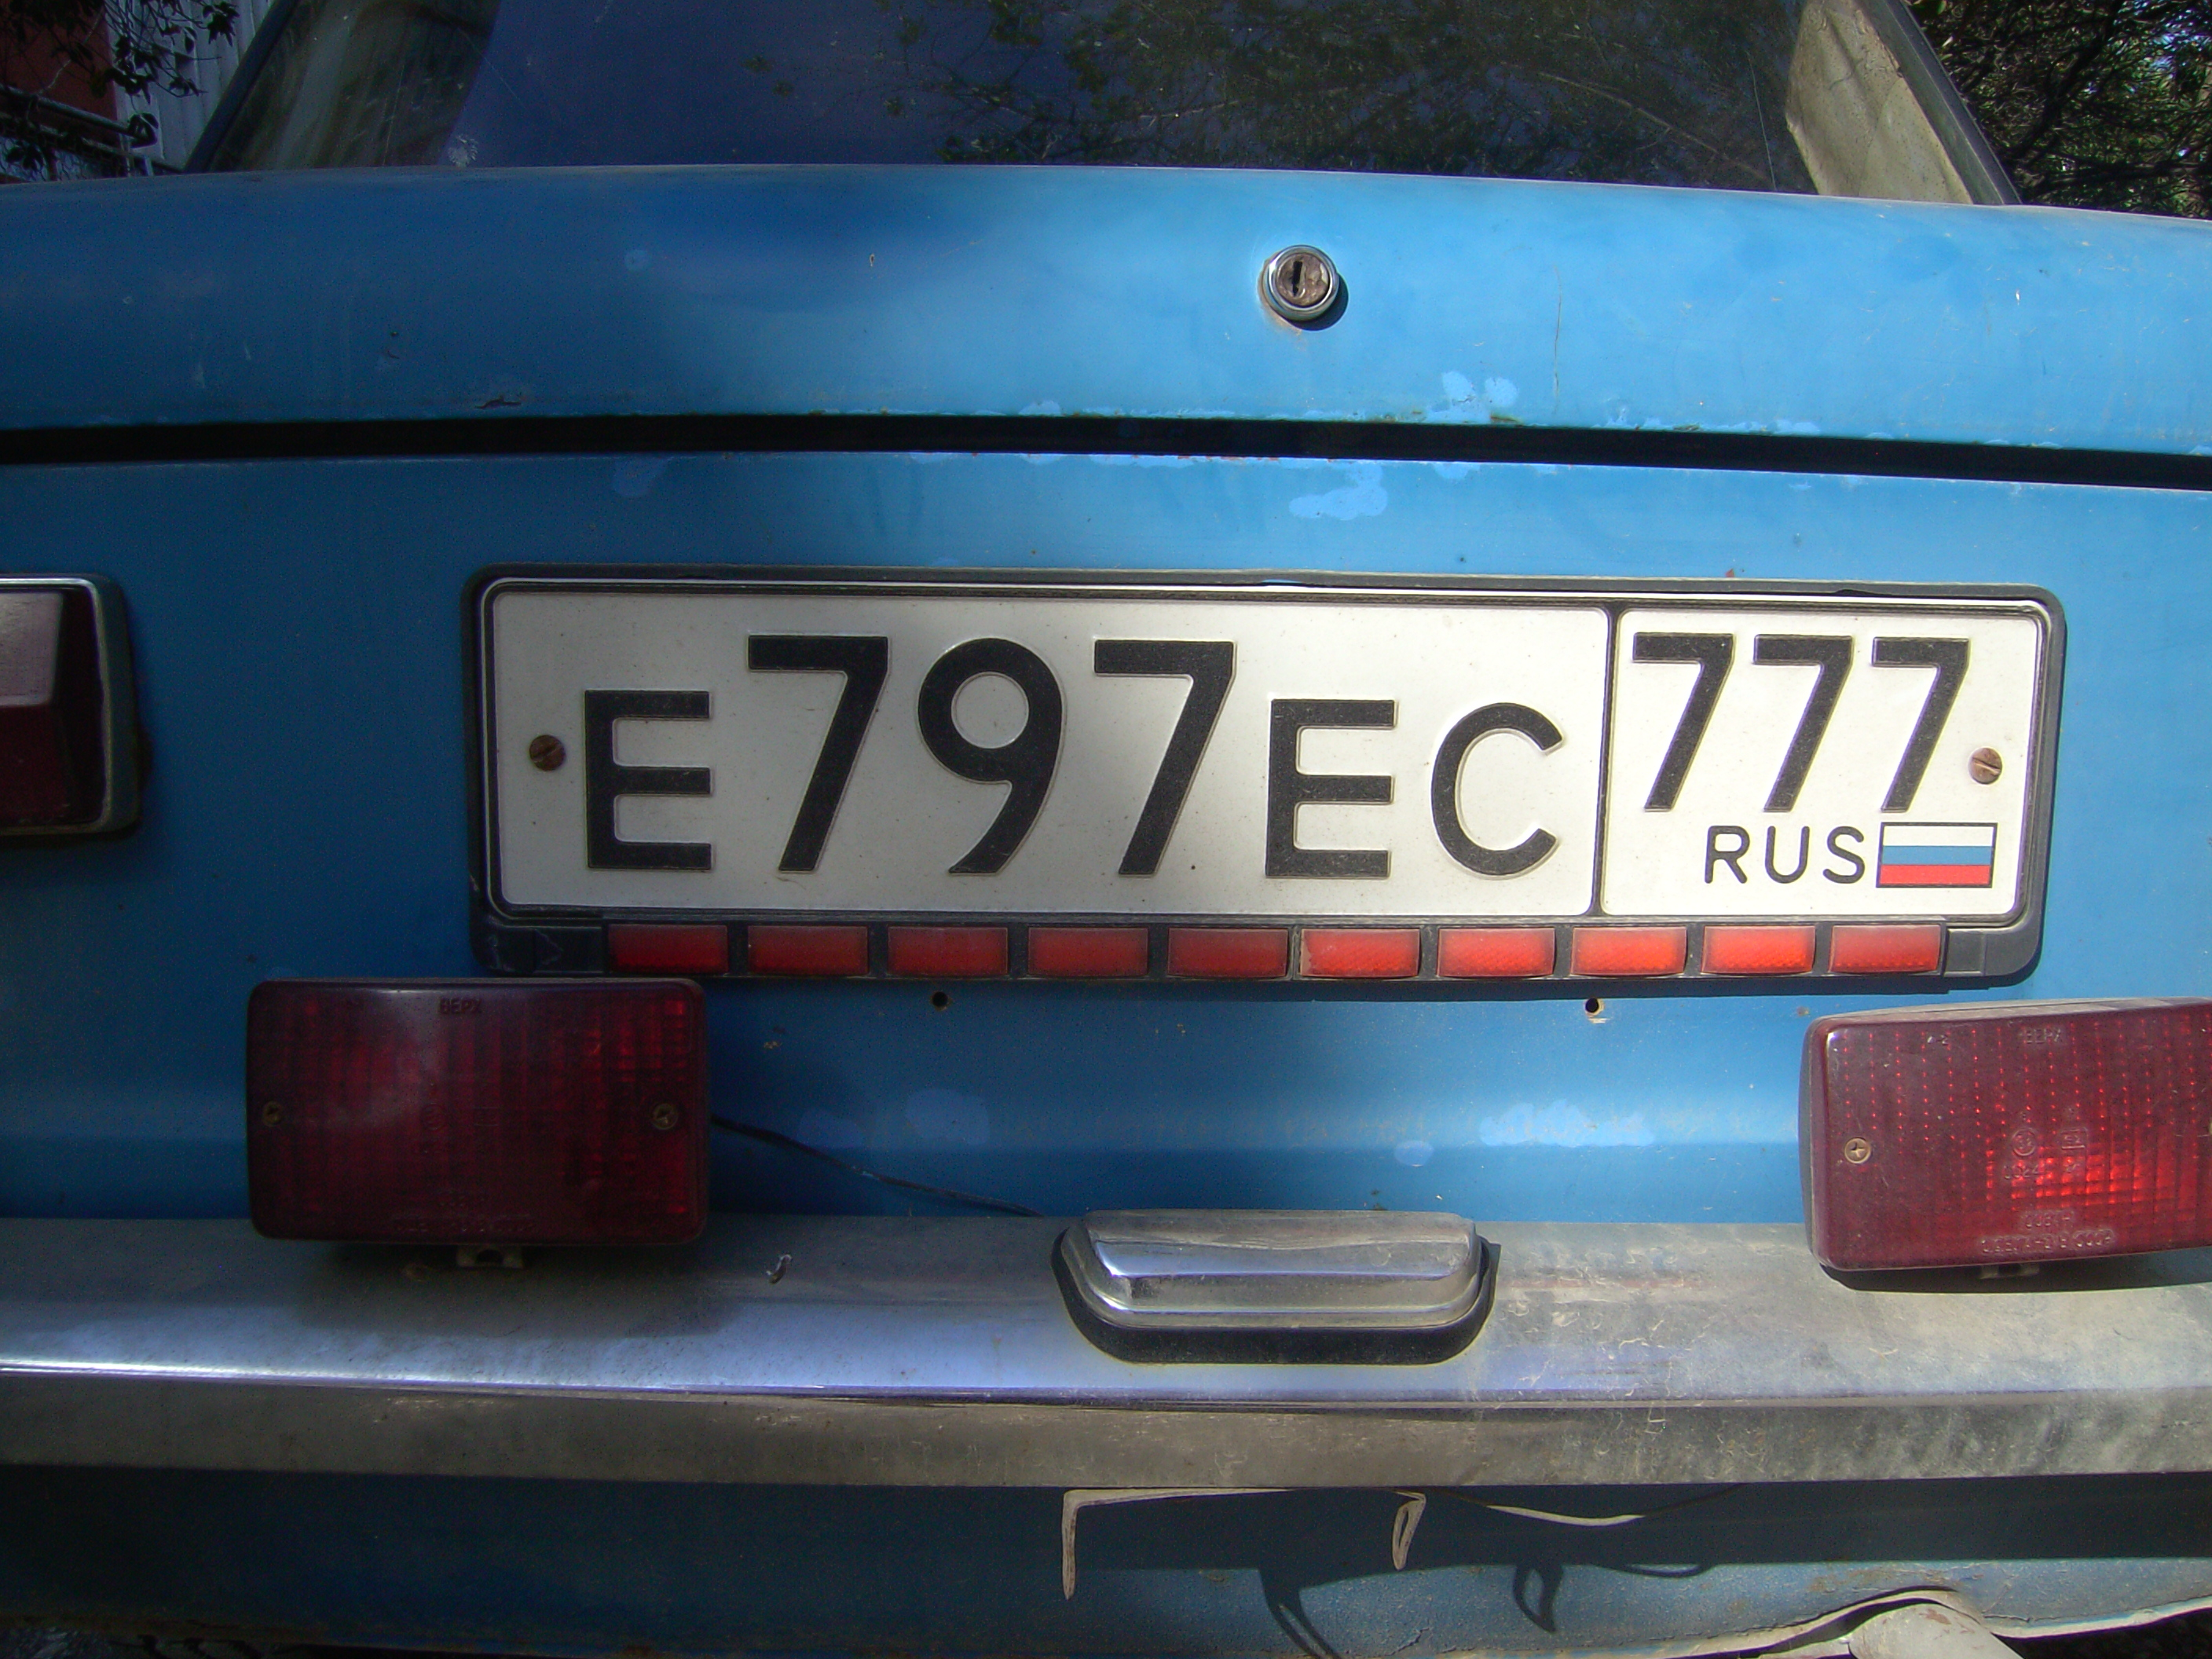number_plate: (474, 581, 2043, 923)
